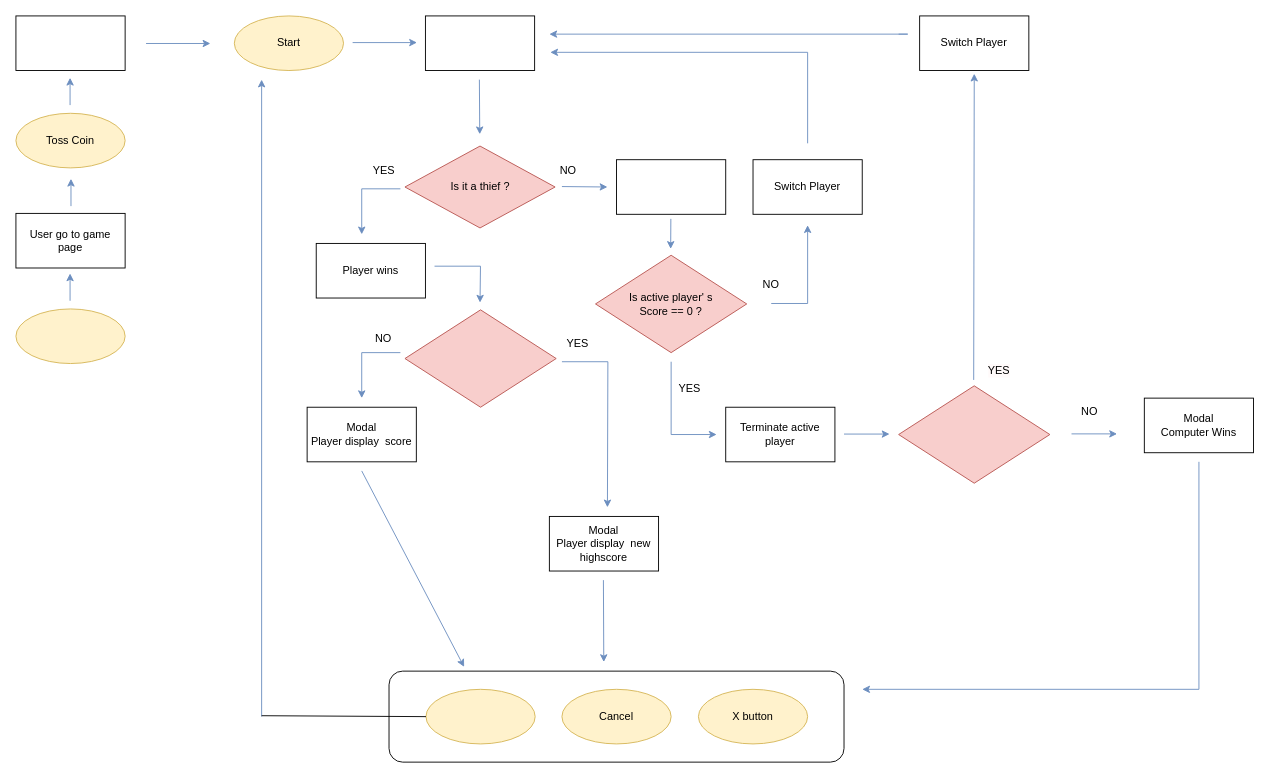
Some shapes in this 1269 by 778 pixel diagram are drawn without their labels. Here are the shapes that lost their labels. From the top down, the centre of each, then its label:
point 70,43: User will know who goes first
point 480,43: User choose card
point 671,186: Minos points for active player
point 70,336: Play
point 480,358: Is the Score == Highscore ?
point 974,434: Is there an Active player?
point 480,716: Play Again
